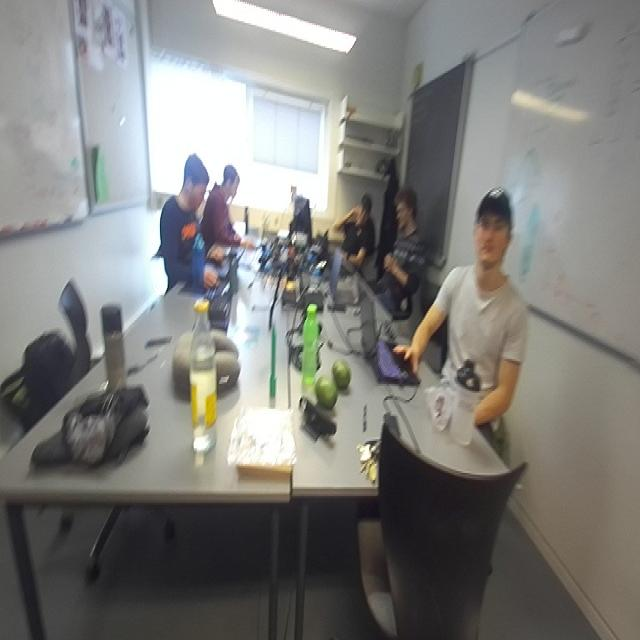probe: (271, 325, 276, 407)
